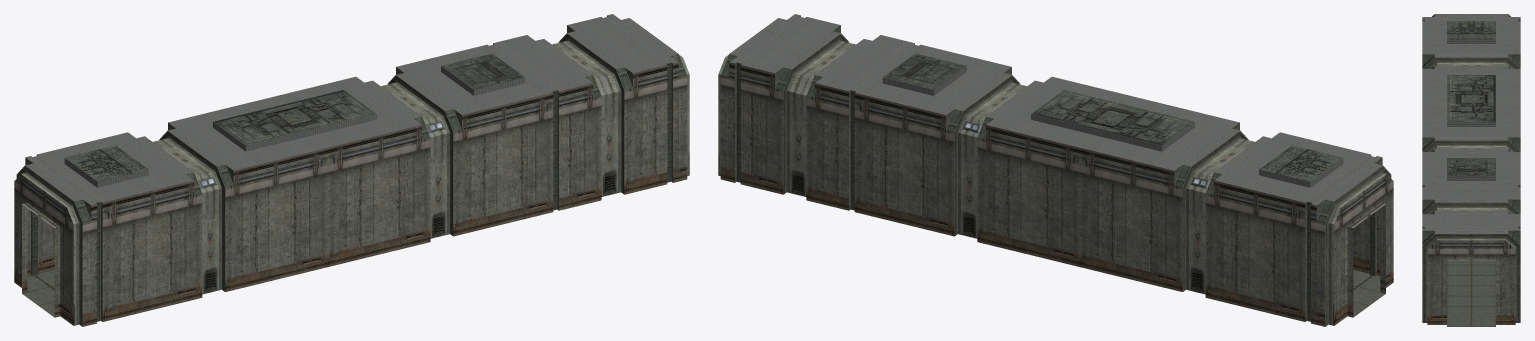
Rendered from poi_all_impl_bunker_crimelord_retreat_s01_r22_hallway07_mesh_r22.fbx.
3 renders of one model, left to right at view 1: azimuth 30°, elevation 25°; view 2: azimuth 150°, elevation 25°; view 3: azimuth 270°, elevation 25°, orthographic. The views are drawn at different scales.
Visible parts, largest first — view 1: mesh_node; view 2: mesh_node; view 3: mesh_node.
Boxes of the visible parts, x1,y1,x2,y2 form: mesh_node: (14,14,689,326); mesh_node: (718,14,1393,326); mesh_node: (1422,14,1520,326).
Size of the model in its own units: 22 by 4.2 by 4.
